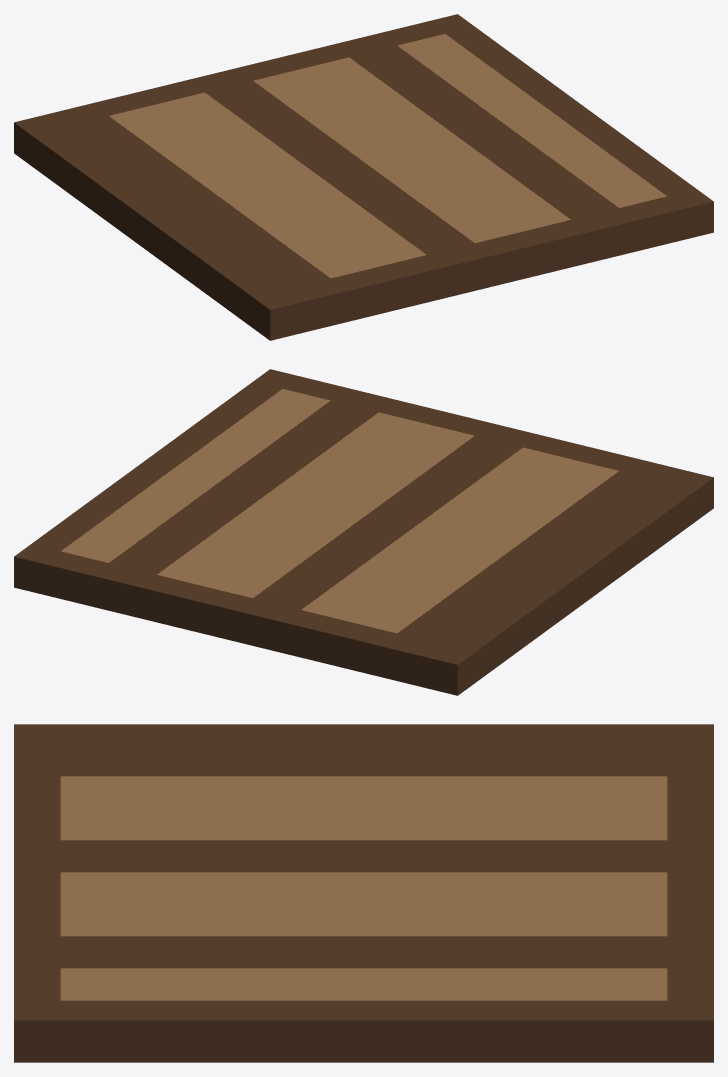
File: floor_lod1.glb
The picture shows the model from 3 angles, top to bottom: view 1: azimuth 30°, elevation 25°; view 2: azimuth 150°, elevation 25°; view 3: azimuth 270°, elevation 25°; orthographic projection. The views are drawn at different scales.
Parts seen in each view (by area): view 1: floor_mesh; view 2: floor_mesh; view 3: floor_mesh.
Part boxes in pixels (<box>): floor_mesh: <box>14,14,713,340</box>; floor_mesh: <box>14,369,713,695</box>; floor_mesh: <box>14,724,713,1062</box>.
Bounding box in the file's own units: 3 × 0.2 × 3.
